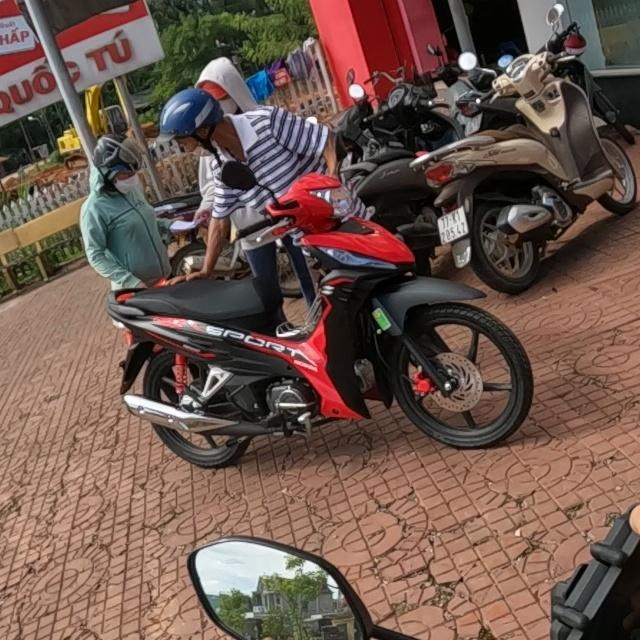license-plate: (436, 206, 472, 245)
